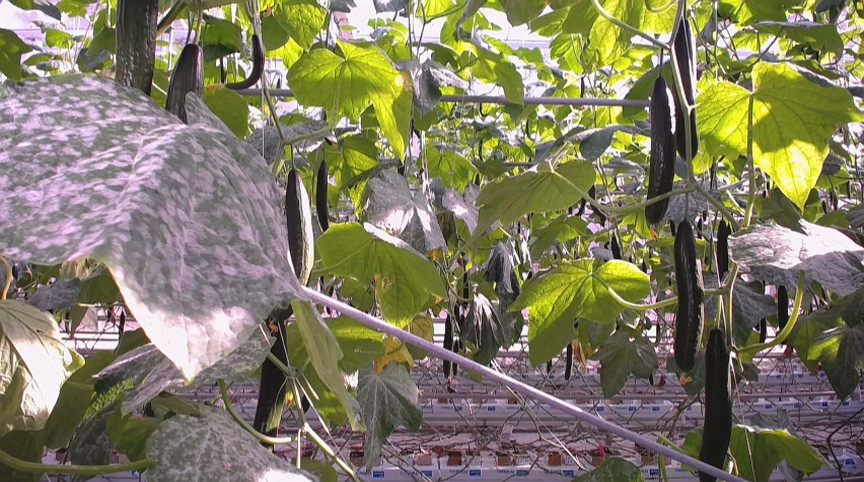cucumber: (699, 328, 735, 479), (673, 222, 704, 374), (645, 78, 677, 225), (114, 1, 158, 100), (283, 169, 316, 289), (672, 21, 700, 161), (256, 322, 288, 440), (167, 44, 204, 125), (224, 36, 266, 90), (316, 163, 332, 232), (715, 221, 732, 282)
